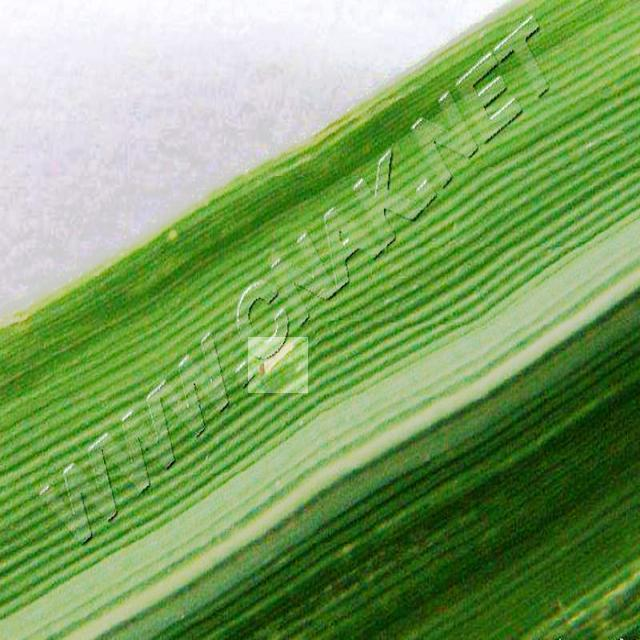leaf-folder: (248, 337, 308, 393)
